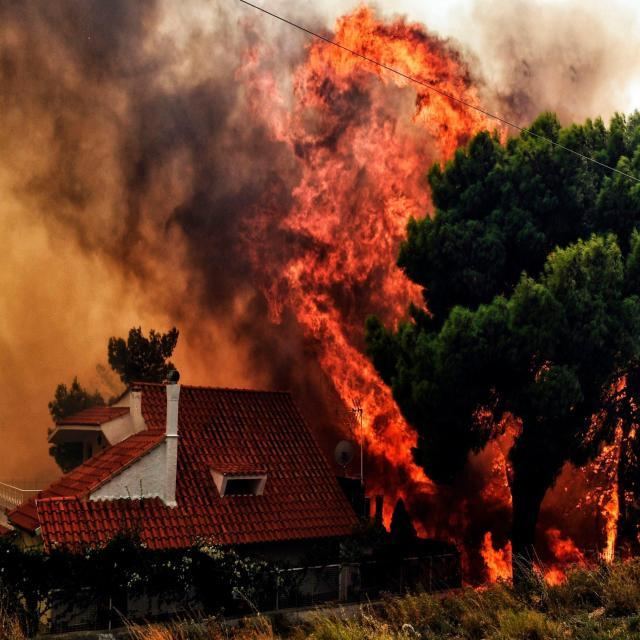Fire: (233, 1, 640, 592)
Smoke: (0, 1, 378, 493), (419, 1, 640, 135)
